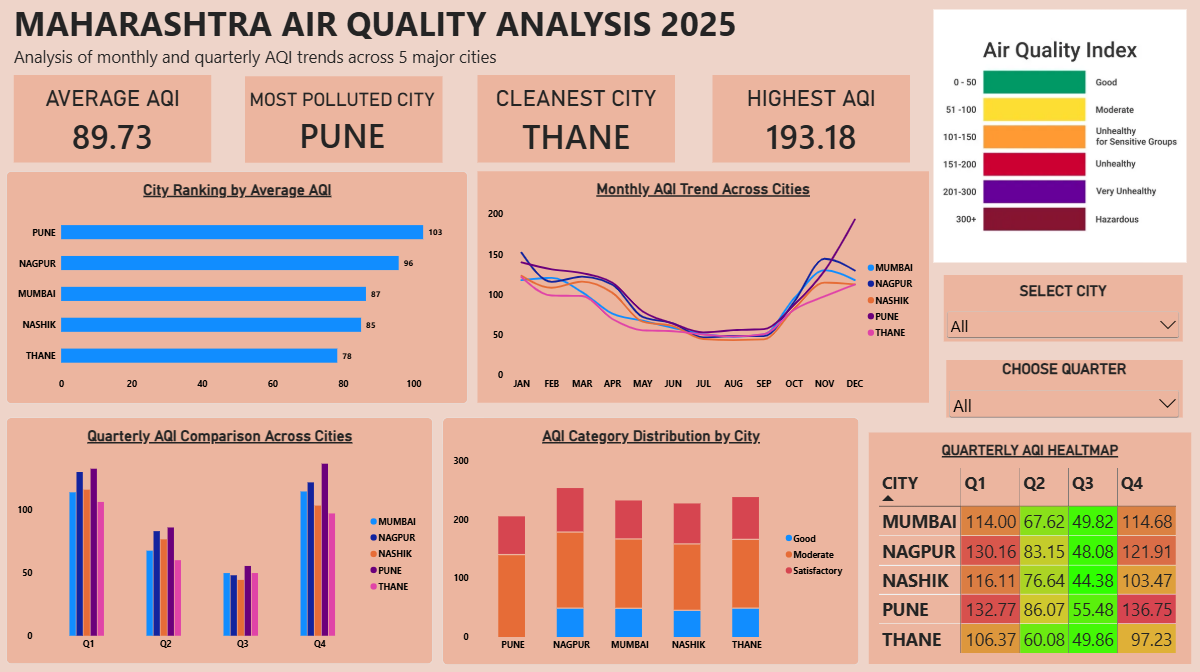

What the dashboard file says about the page in this screenshot:
{"tool":"powerbi","page":{"name":"Page 1","canvas":[1920,1080],"ordinal":0},"visuals":[{"type":"textbox","box":[22,0,1450,122],"z":0},{"type":"cardVisual","title":"AVERAGE AQI","fields":{"Data":["Avg(Sheet1 (2).AQI)"]},"box":[22,120,316,140],"z":1000},{"type":"cardVisual","title":"MOST POLLUTED CITY","fields":{"Data":["Sheet1 (2).Most Polluted City"]},"box":[392,122,316,136],"z":2000},{"type":"cardVisual","title":"HIGHEST AQI","fields":{"Data":["Sheet1 (2).Highest AQI"]},"box":[1140,120,316,134],"z":3000},{"type":"clusteredBarChart","title":"City Ranking by Average AQI","fields":{"Category":["Sheet1 (2).CITY"],"Y":["Avg(Sheet1 (2).AQI)"]},"box":[10,274,738,372],"z":4000},{"type":"lineChart","title":"Monthly AQI Trend Across Cities","fields":{"Category":["Sheet1 (2).MONTH"],"Series":["Sheet1 (2).CITY"],"Y":["Avg(Sheet1 (2).AQI)"]},"box":[764,274,722,370],"z":5000},{"type":"clusteredColumnChart","title":"Quarterly AQI Comparison Across Cities","fields":{"Category":["Sheet1 (2).QUARTER"],"Series":["Sheet1 (2).CITY"],"Y":["Avg(Sheet1 (2).AQI)"]},"box":[10,668,682,394],"z":6000},{"type":"columnChart","title":"AQI Category Distribution by City","fields":{"Category":["Sheet1 (2).CITY"],"Series":["Sheet1 (2).AQI Category"],"Y":["Avg(Sheet1 (2).AQI)"]},"box":[708,668,666,396],"z":7000},{"type":"slicer","title":"SELECT CITY","fields":{"Values":["Sheet1 (2).CITY"]},"box":[1510,440,382,106],"z":8000},{"type":"slicer","title":" CHOOSE QUARTER","fields":{"Values":["Sheet1 (2).QUARTER"]},"box":[1514,576,378,92],"z":9000},{"type":"pivotTable","title":"QUARTERLY AQI HEALTMAP","fields":{"Columns":["Sheet1 (2).QUARTER"],"Rows":["Sheet1 (2).CITY"],"Values":["Avg(Sheet1 (2).AQI)"]},"box":[1390,692,516,370],"z":10000},{"type":"image","box":[1472,0,448,440],"z":11000},{"type":"cardVisual","title":"CLEANEST CITY","fields":{"Data":["Sheet1 (2).Cleanest City"]},"box":[764,120,316,136],"z":12000}]}

Visuals, with their boxes in screenshot pixels (x1, y1, x2, y2), scaled from the page's 1920x1080 canvas onto the 1200x672 screenshot:
textbox: select_region(14, 0, 920, 76)
"AVERAGE AQI" cardVisual: select_region(14, 75, 211, 162)
"MOST POLLUTED CITY" cardVisual: select_region(245, 76, 442, 161)
"HIGHEST AQI" cardVisual: select_region(712, 75, 910, 158)
"City Ranking by Average AQI" clusteredBarChart: select_region(6, 170, 468, 402)
"Monthly AQI Trend Across Cities" lineChart: select_region(478, 170, 929, 401)
"Quarterly AQI Comparison Across Cities" clusteredColumnChart: select_region(6, 416, 432, 661)
"AQI Category Distribution by City" columnChart: select_region(442, 416, 859, 662)
"SELECT CITY" slicer: select_region(944, 274, 1182, 340)
" CHOOSE QUARTER" slicer: select_region(946, 358, 1182, 416)
"QUARTERLY AQI HEALTMAP" pivotTable: select_region(869, 431, 1191, 661)
image: select_region(920, 0, 1199, 274)
"CLEANEST CITY" cardVisual: select_region(478, 75, 675, 159)
